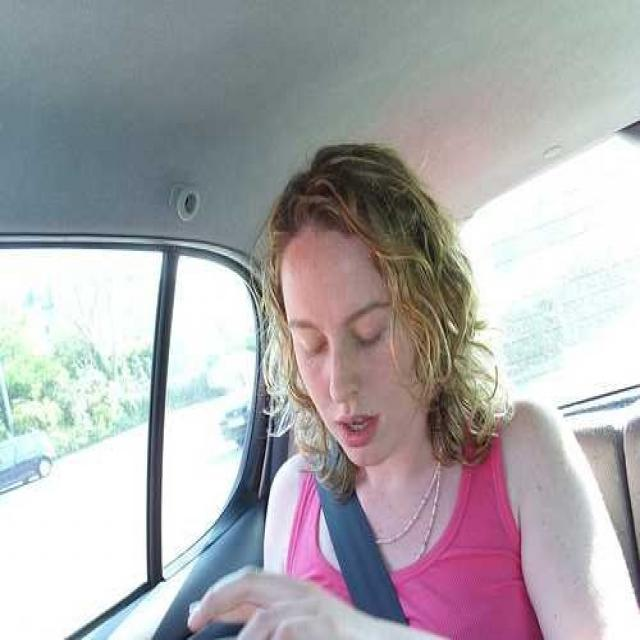seatbelt: (296, 413, 408, 613)
